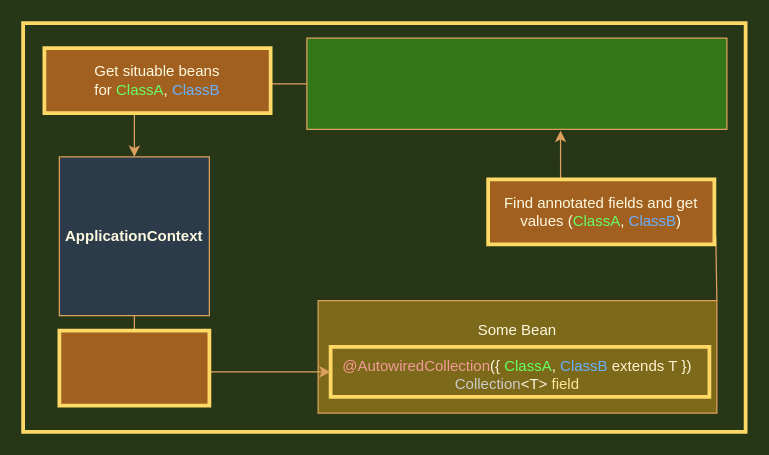
Image size: 769x455. Some labels were removed from this diagram. Each missing label, with the box of its shape:
BeanPostProcessor Before Initialization: (306, 37, 727, 129)
Inject found beans into annotated field: (57, 328, 211, 407)
